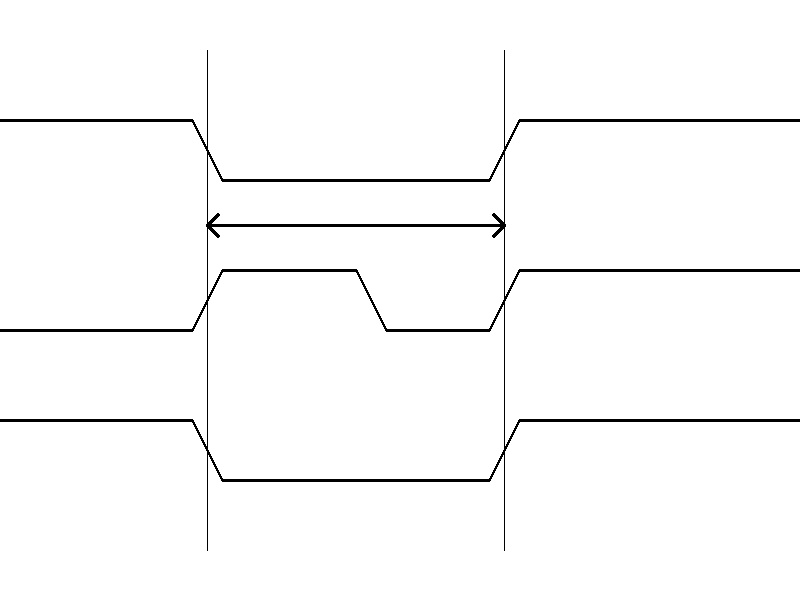double_arrow: (207, 210, 504, 240)
